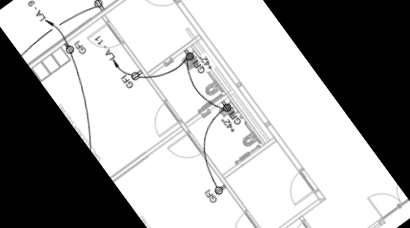door: (83, 19, 124, 60), (165, 132, 204, 171), (278, 170, 317, 208), (142, 101, 180, 140), (138, 0, 178, 20), (222, 209, 263, 228), (281, 220, 322, 228)
